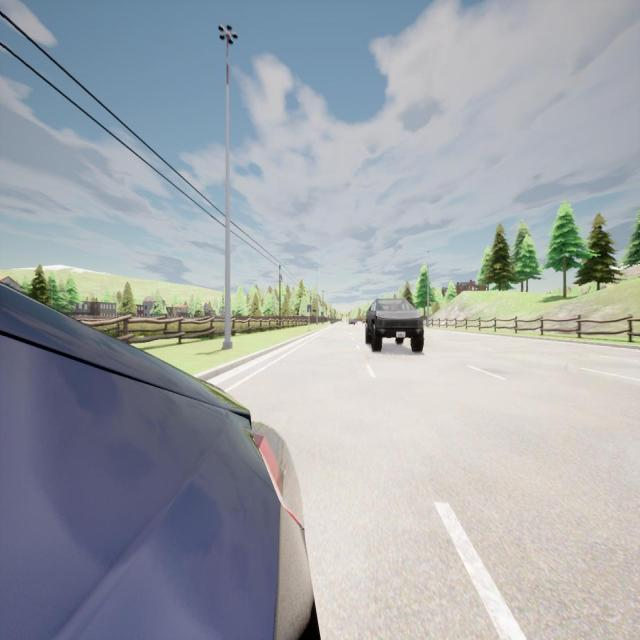Traffic_Signs: (308, 305, 312, 312)
Vehicle: (0, 284, 312, 637), (362, 294, 425, 358), (348, 318, 356, 326)
